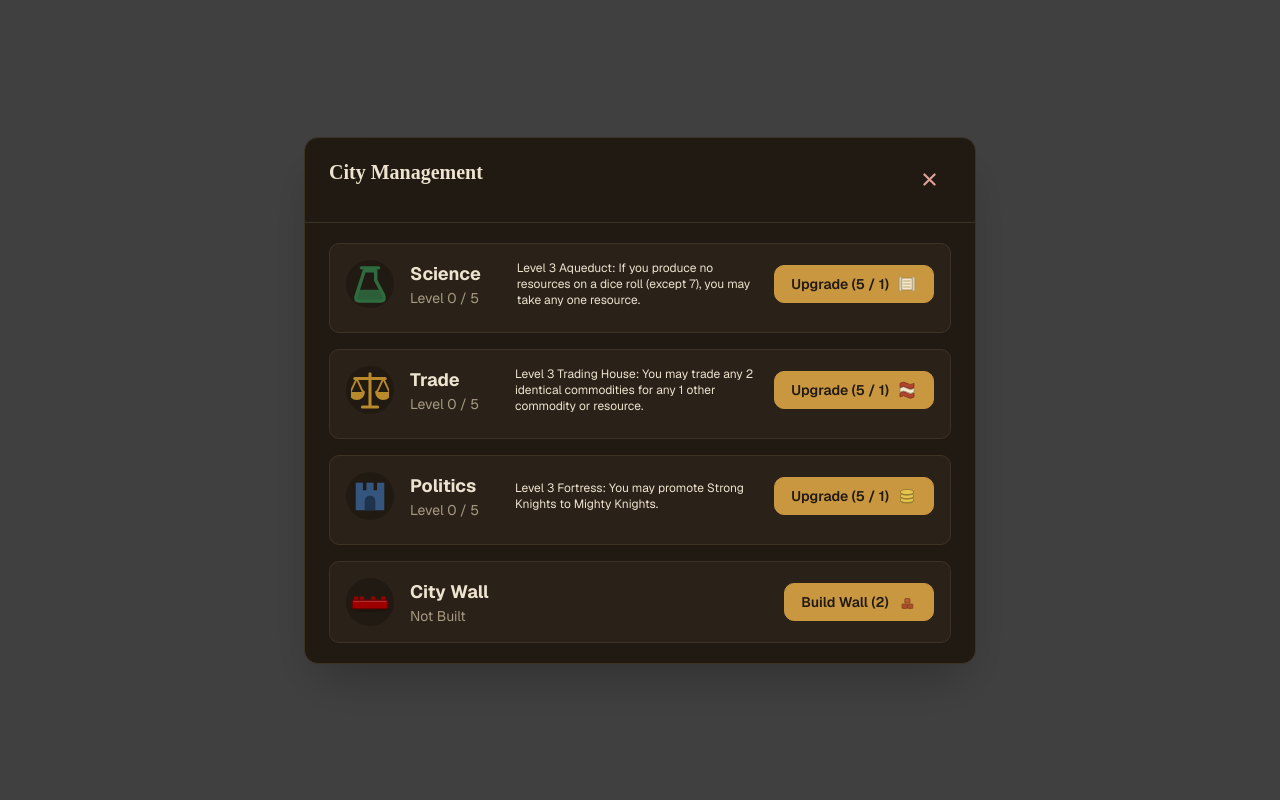
Test: management dialog error handling › announces a city improvement error message
The image size is (1280, 800).
Step 1. Click the button "Upgrade (5 / 1)" in the row of "Science" → (854, 284), box [774, 264, 934, 302]
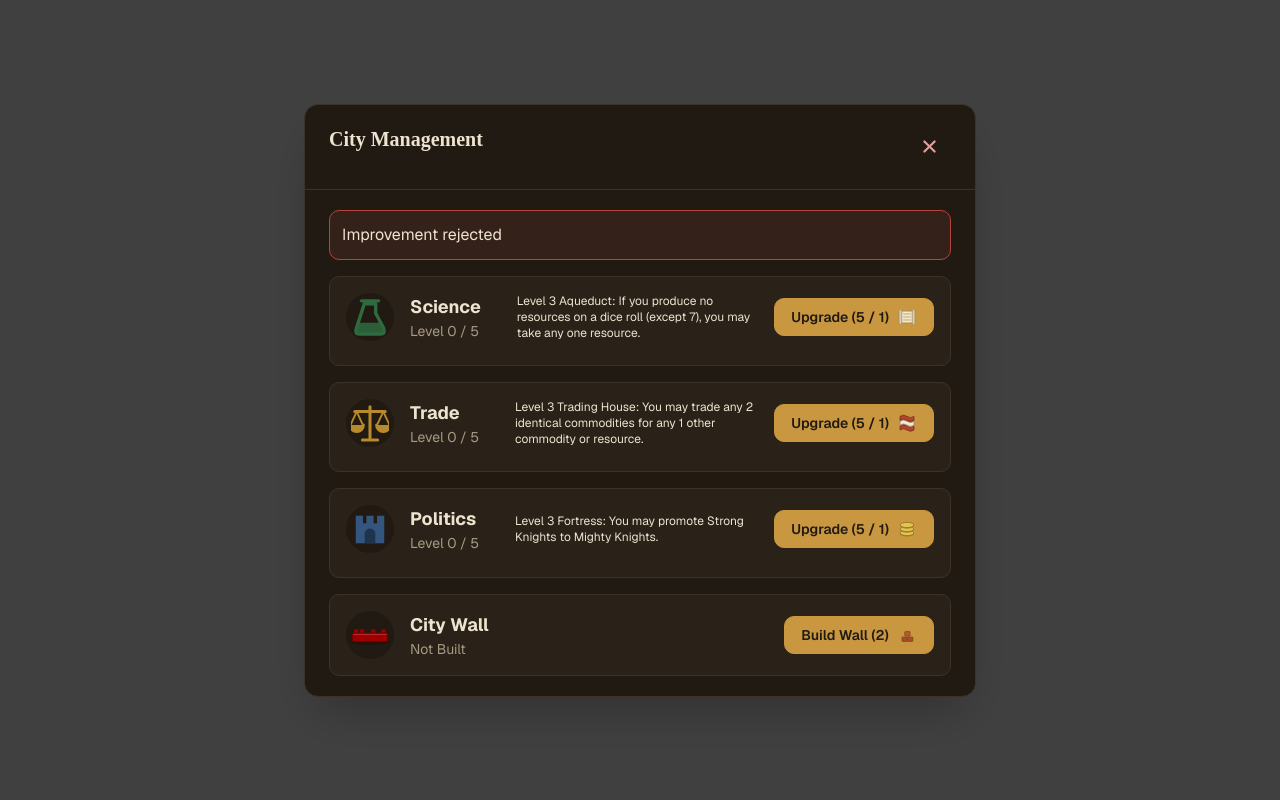
Now the message reads "Improvement rejected", box [342, 224, 502, 244]
